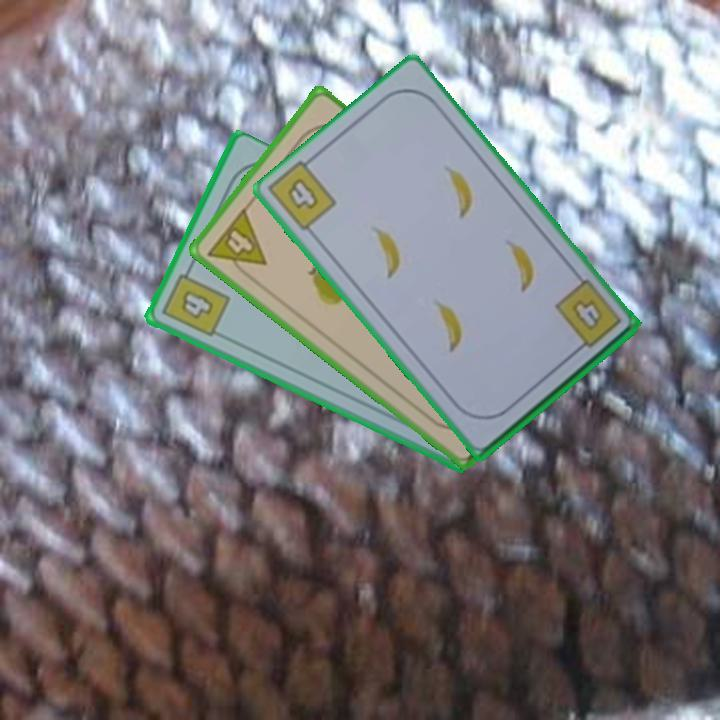4b: (551, 276, 625, 357), (158, 262, 233, 341), (283, 174, 321, 213)
4p: (204, 204, 270, 284)
